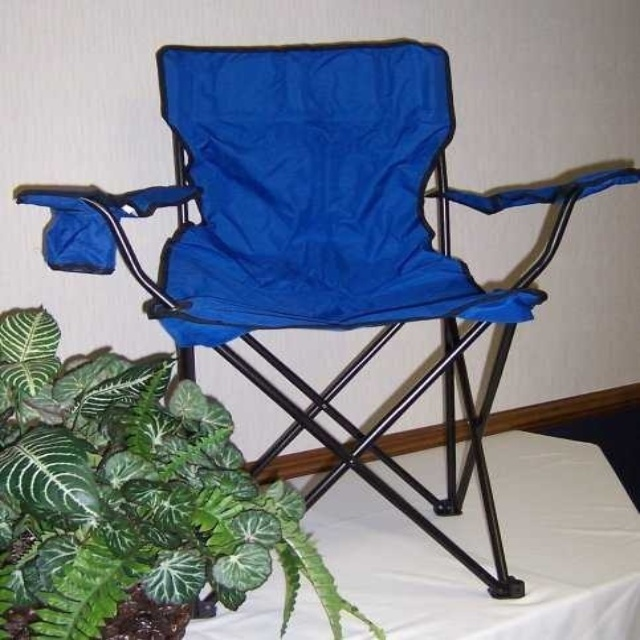obstacle: (16, 40, 637, 597)
